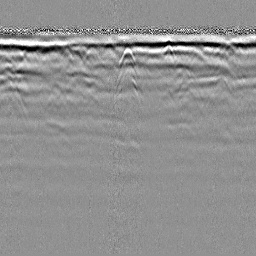cavity: (117, 47, 138, 67)
